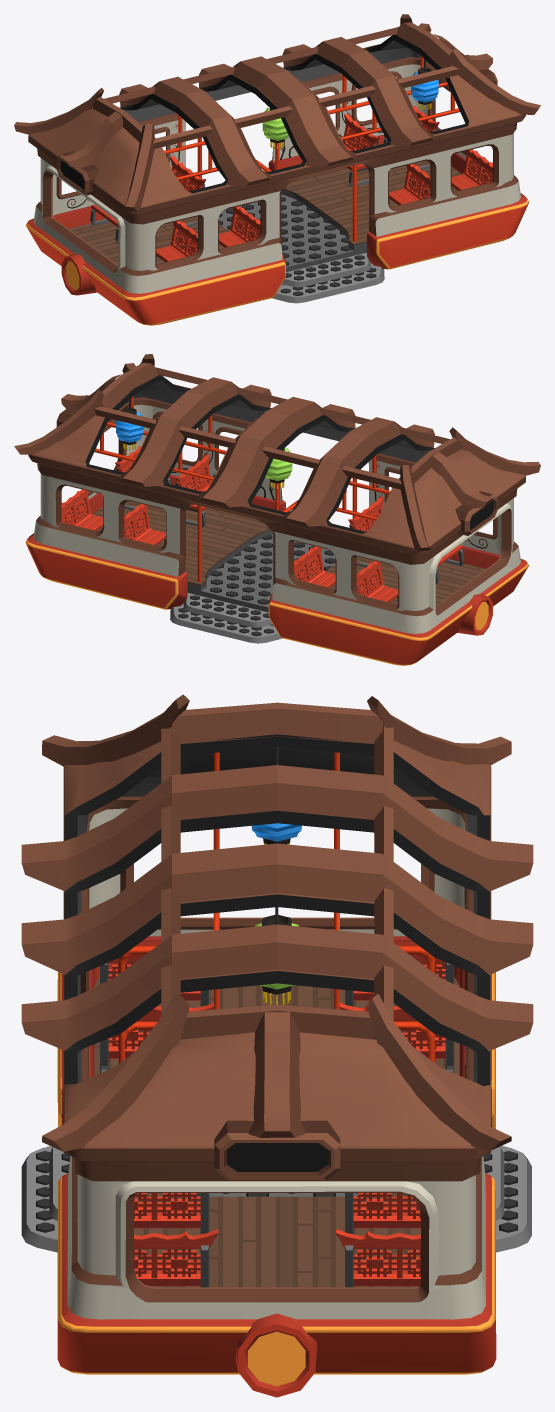
The model's file is chinese_tram.glb.
3 renders of one model, top to bottom at view 1: azimuth 30°, elevation 25°; view 2: azimuth 150°, elevation 25°; view 3: azimuth 270°, elevation 25°, orthographic. The views are drawn at different scales.
Parts seen in each view (by area): view 1: chinese_tram; view 2: chinese_tram; view 3: chinese_tram.
Part boxes in pixels (<box>): chinese_tram: <box>14,14,540,325</box>; chinese_tram: <box>14,354,540,665</box>; chinese_tram: <box>21,694,533,1397</box>.
Size of what is drawn, in the model's own units: 15.8 by 6.35 by 8.23.
Materials: 1 (1 with a texture image).
